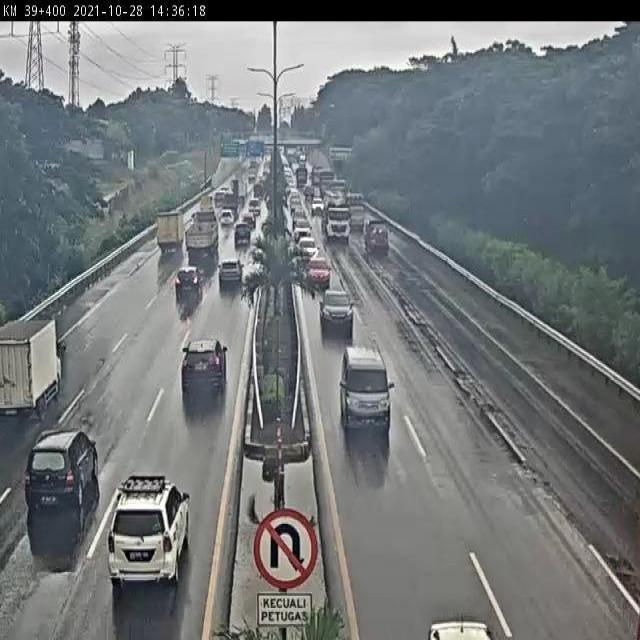big truck: (185, 212, 223, 260), (323, 198, 352, 242)
car: (107, 476, 193, 589), (25, 427, 100, 517), (337, 344, 392, 432), (177, 336, 229, 399), (318, 288, 355, 331), (172, 264, 203, 300), (305, 253, 333, 291), (216, 256, 243, 289), (296, 236, 319, 263), (233, 221, 253, 247), (217, 208, 233, 229)
small truck: (0, 314, 64, 422), (154, 210, 185, 258), (361, 216, 391, 253)
